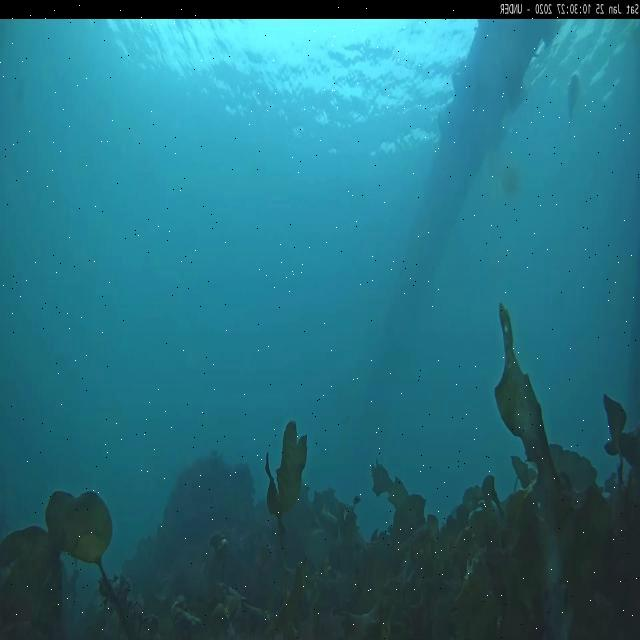fish: (562, 74, 580, 126)
